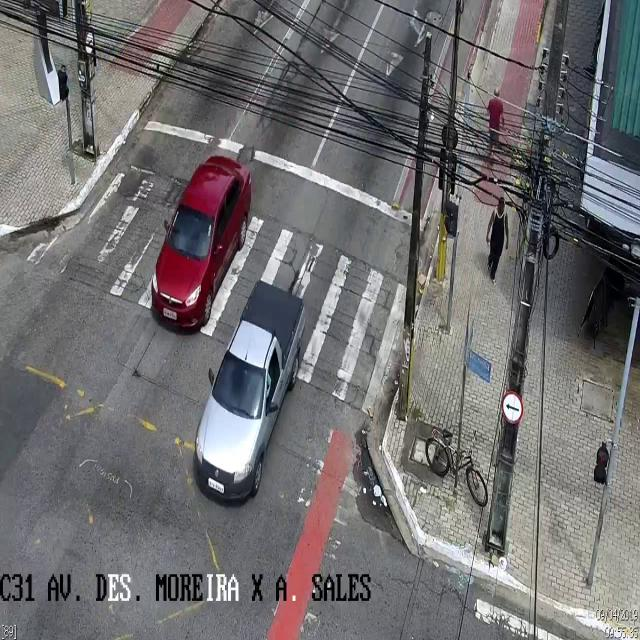Car: (194, 278, 306, 508), (149, 156, 251, 334)
